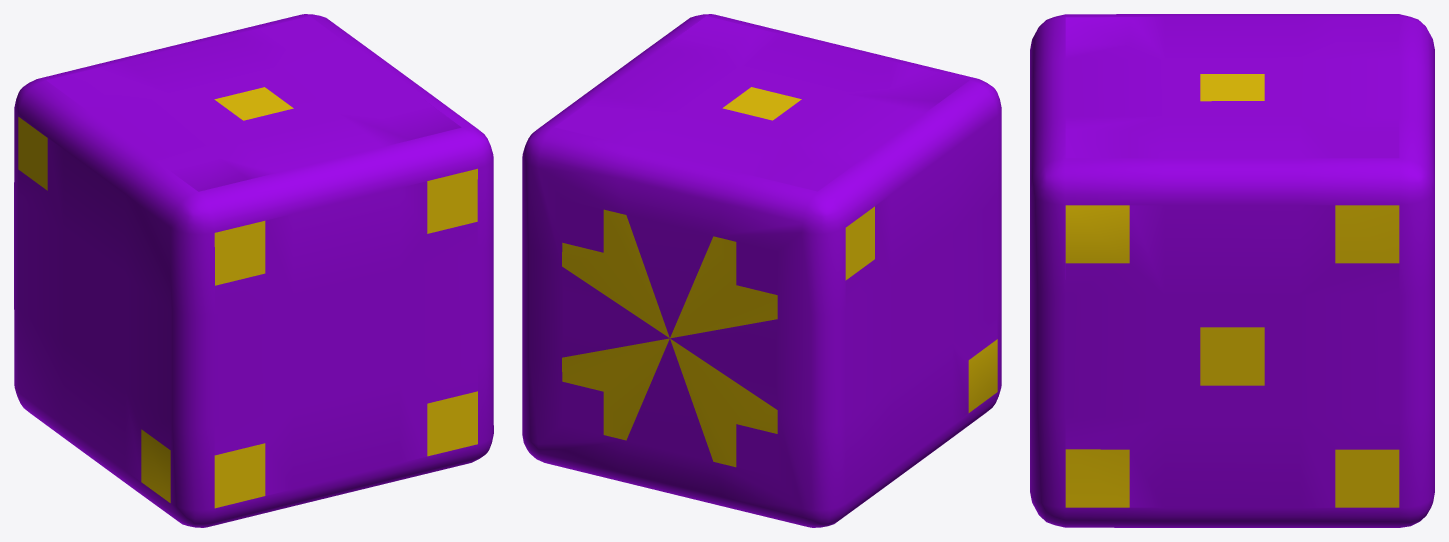
Rendered from DiceJoker_ver6.fbx.
3 renders of one model, left to right at view 1: azimuth 30°, elevation 25°; view 2: azimuth 150°, elevation 25°; view 3: azimuth 270°, elevation 25°, orthographic. The views are drawn at different scales.
Parts seen in each view (by area): view 1: Joker; view 2: Joker; view 3: Joker.
Part boxes in pixels (box(x1,y1,x2,y2)): Joker: box(14, 14, 493, 527); Joker: box(522, 14, 1001, 527); Joker: box(1030, 14, 1434, 527).
Bounding box in the file's own units: 200 × 200 × 200.
